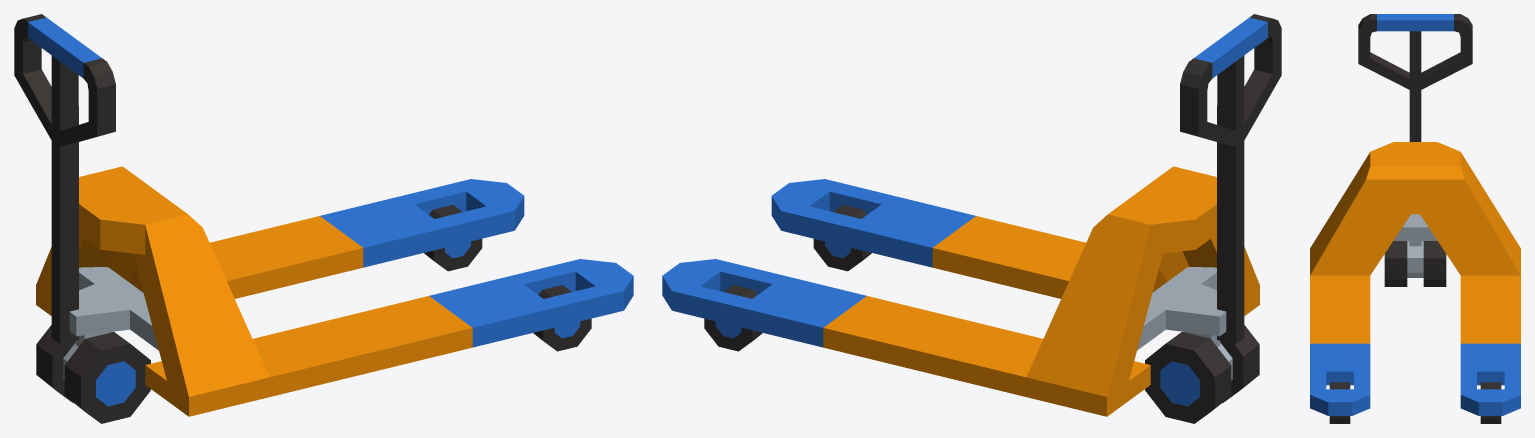
Rendered from PalletLifter.fbx.
3 renders of one model, left to right at view 1: azimuth 30°, elevation 25°; view 2: azimuth 150°, elevation 25°; view 3: azimuth 270°, elevation 25°, orthographic. The views are drawn at different scales.
Parts seen in each view (by area): view 1: PalletLifter; view 2: PalletLifter; view 3: PalletLifter.
Boxes of the visible parts, box(x1,y1,x2,y2) form: PalletLifter: box(14, 14, 633, 423); PalletLifter: box(662, 14, 1281, 423); PalletLifter: box(1310, 14, 1520, 423).
Size of the model in its own units: 272 by 187 by 140.
